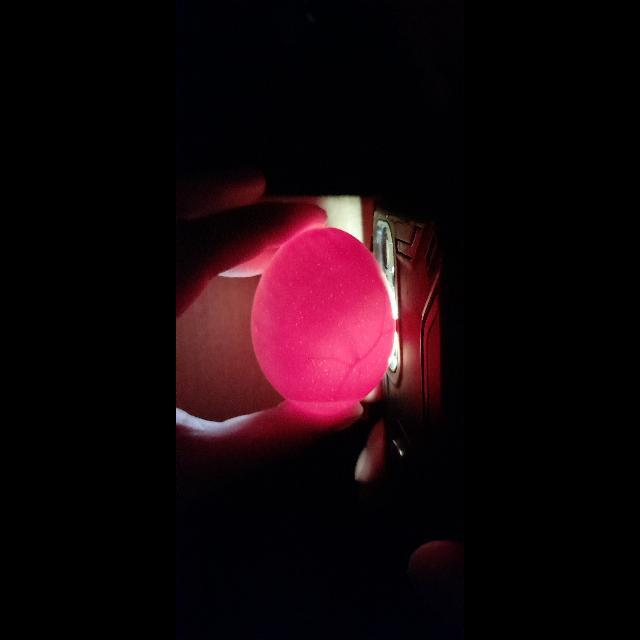Fertile: (257, 220, 391, 412)
